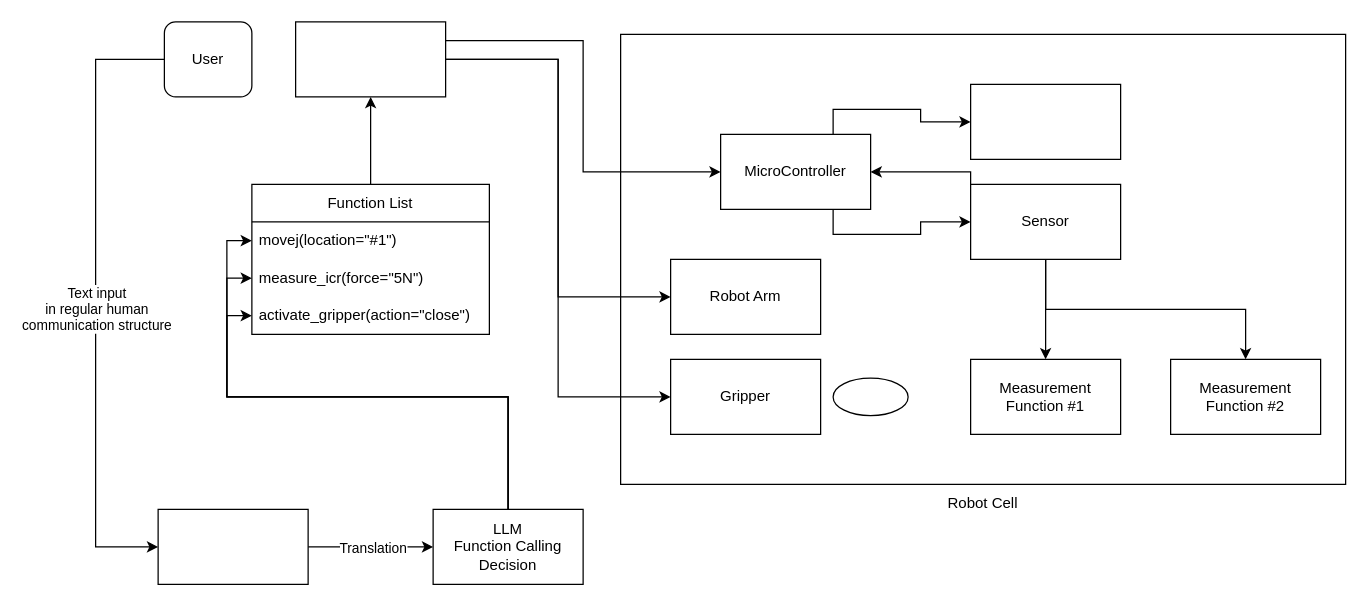
Image size: 1368x606. Some labels were removed from this diagram. The centre of each missing label's shape, as x and y in pixels:
"Actuator" goes at [1045,121].
"LLM Chat Bot" goes at [232,546].
"Sample" goes at [870,396].
"Workstation ROS2" goes at [370,59].
